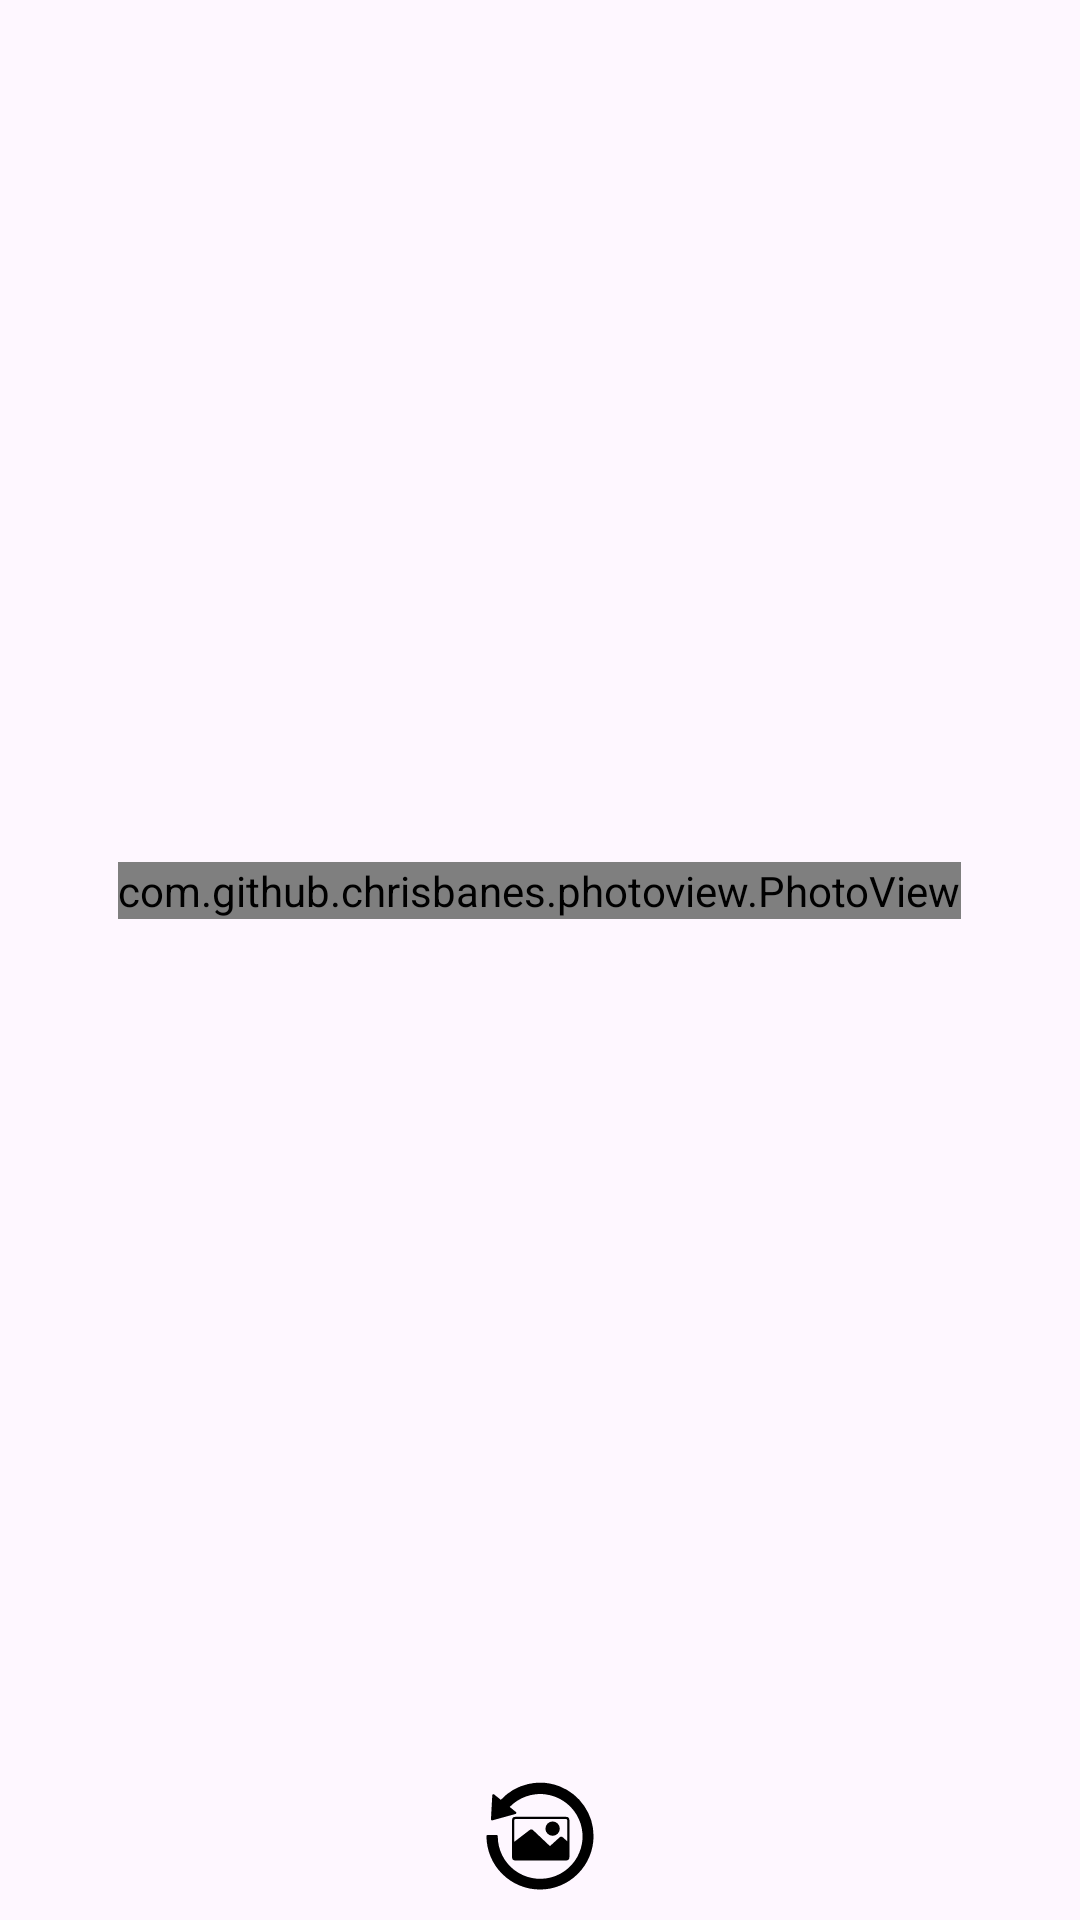

Icon click points for this 1080×1920 phone screenshot, format [x,y]:
rotate: [540,1836]
